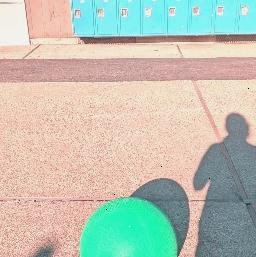algae: (82, 196, 175, 257)
